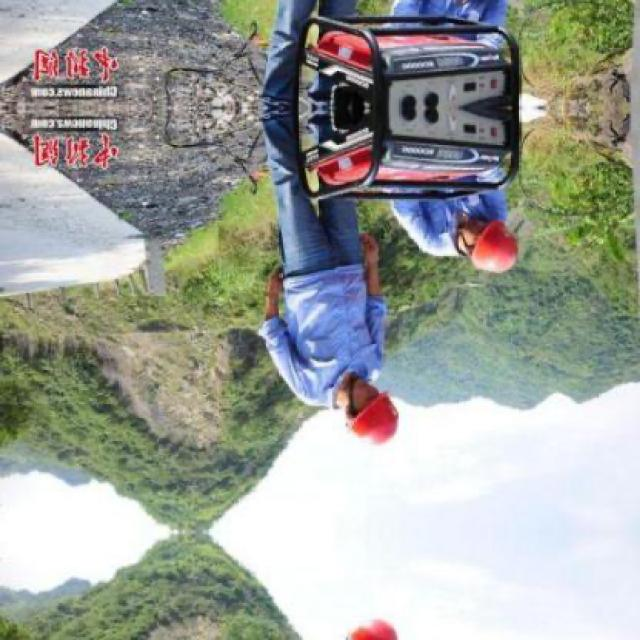con casco: (437, 210, 549, 290), (326, 360, 408, 460)
